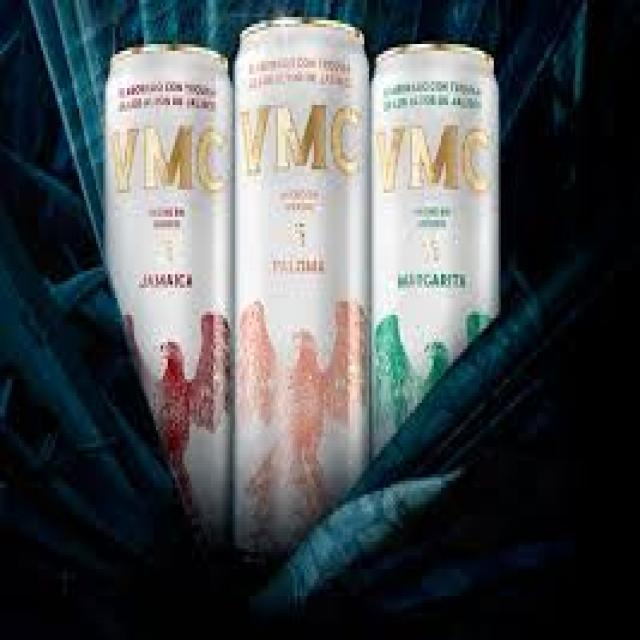Cans: (226, 7, 376, 555), (99, 34, 232, 548), (367, 37, 501, 437)
